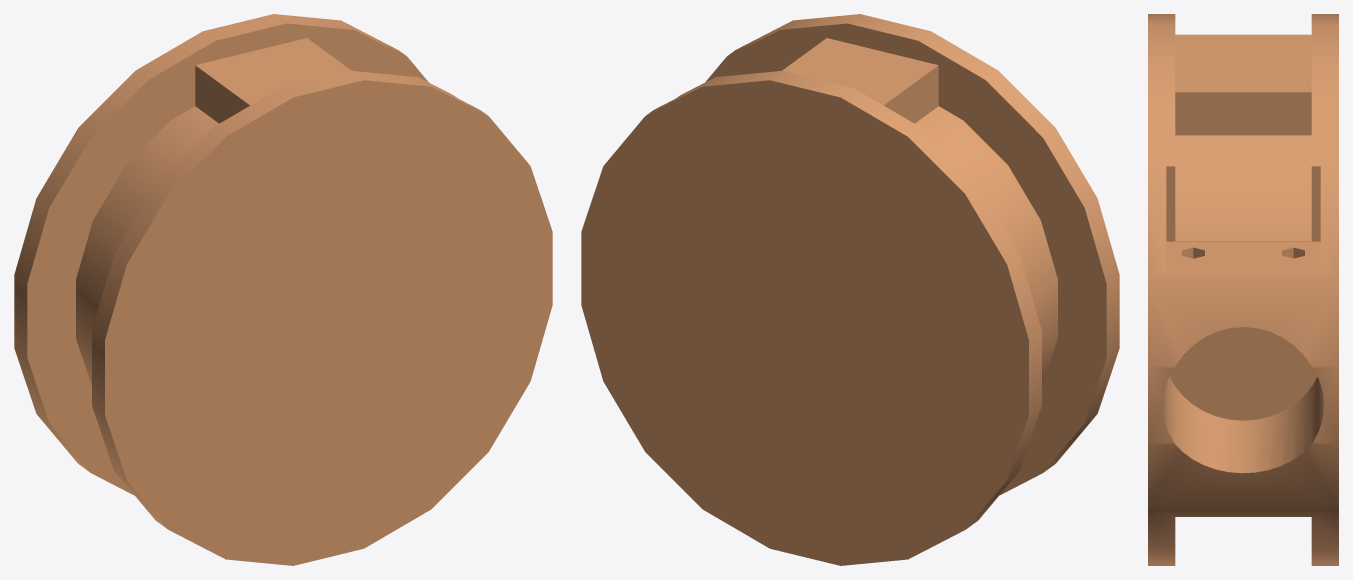
The picture shows the model from 3 angles, left to right: view 1: azimuth 30°, elevation 25°; view 2: azimuth 150°, elevation 25°; view 3: azimuth 270°, elevation 25°; orthographic projection. The views are drawn at different scales.
Parts seen in each view (by area): view 1: Link_5; view 2: Link_5; view 3: Link_5.
Part boxes in pixels (x1,y1,x2,y2): Link_5: [14, 14, 552, 565]; Link_5: [581, 14, 1119, 565]; Link_5: [1148, 14, 1338, 565].
Size of the model in its own units: 0.12 by 0.042 by 0.12.
